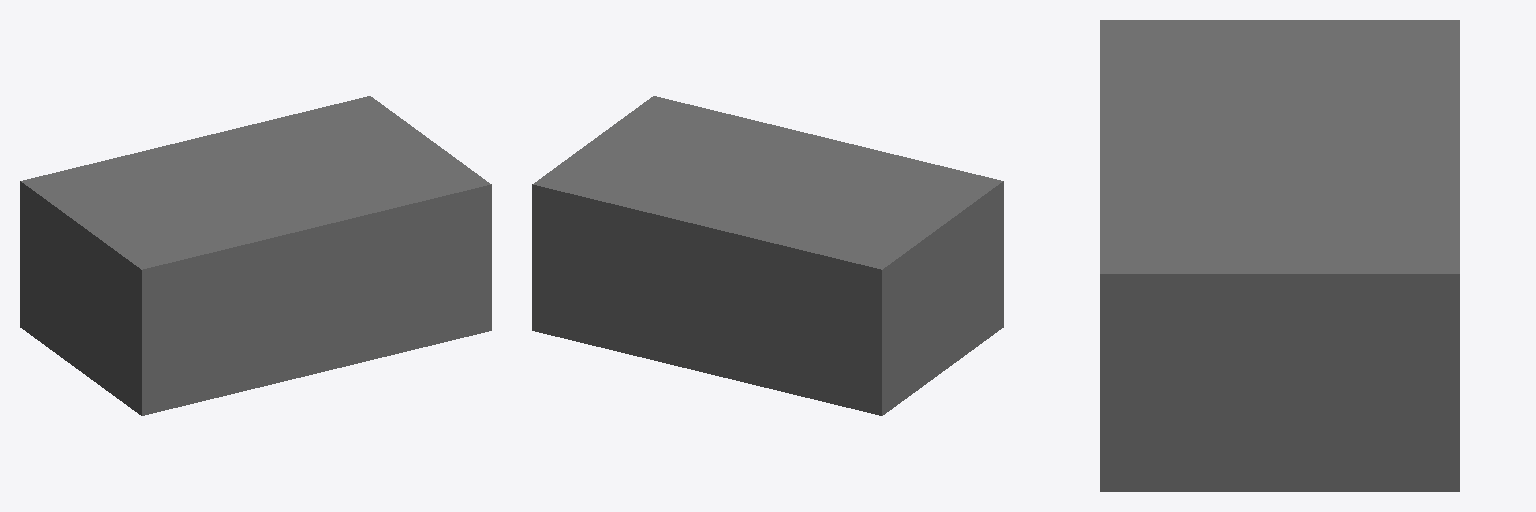
URDF robot description (testbot):
<?xml version="1.0"?>
<robot name="testbot">
  <material name="grey"><color rgba="0.5 0.5 0.5 1"/></material>

  <link name="base"/>

  <link name="trunk">
    <inertial>
      <origin xyz="0.1 0 0" rpy="0 0 1.5707963267948966"/>
      <mass value="10"/>
      <inertia ixx="1" ixy="0.5" ixz="0" iyy="2" iyz="0" izz="3"/>
    </inertial>
    <visual>
      <geometry><box size="1 0.6 0.4"/></geometry>
      <material name="grey"/>
    </visual>
    <collision>
      <geometry><box size="1 0.6 0.4"/></geometry>
    </collision>
  </link>

  <link name="hip">
    <inertial>
      <mass value="1"/>
      <inertia ixx="0.01" ixy="0" ixz="0" iyy="0.01" iyz="0" izz="0.01"/>
    </inertial>
    <collision>
      <geometry><sphere radius="0.1"/></geometry>
    </collision>
  </link>

  <link name="thigh">
    <inertial>
      <origin xyz="0 0 -0.2" rpy="0 0 0"/>
      <mass value="2"/>
      <inertia ixx="0.02" ixy="0" ixz="0" iyy="0.02" iyz="0" izz="0.01"/>
    </inertial>
    <collision>
      <origin xyz="0 0 -0.2" rpy="1.5707963267948966 0 0"/>
      <geometry><cylinder radius="0.05" length="0.4"/></geometry>
    </collision>
  </link>

  <link name="foot">
    <inertial>
      <mass value="1"/>
      <inertia ixx="0.001" ixy="0" ixz="0" iyy="0.001" iyz="0" izz="0.001"/>
    </inertial>
    <collision>
      <geometry><sphere radius="0.05"/></geometry>
    </collision>
  </link>

  <link name="slider">
    <inertial>
      <mass value="0.5"/>
      <inertia ixx="0.005" ixy="0" ixz="0" iyy="0.005" iyz="0" izz="0.005"/>
    </inertial>
    <collision>
      <origin xyz="0 0 0" rpy="0 0 1.5707963267948966"/>
      <geometry><box size="0.2 0.4 0.1"/></geometry>
    </collision>
  </link>

  <link name="wheel">
    <inertial>
      <mass value="0.5"/>
      <inertia ixx="0.005" ixy="0" ixz="0" iyy="0.005" iyz="0" izz="0.005"/>
    </inertial>
    <collision>
      <origin xyz="0 0 0" rpy="0 0 0.7853981633974483"/>
      <geometry><box size="0.2 0.2 0.2"/></geometry>
    </collision>
  </link>

  <link name="imu"/>

  <joint name="base_to_trunk" type="fixed">
    <parent link="base"/><child link="trunk"/>
    <origin xyz="0 0 0.5" rpy="0 0 0"/>
  </joint>

  <joint name="hip_joint" type="revolute">
    <parent link="trunk"/><child link="hip"/>
    <origin xyz="0.4 0.2 0" rpy="0 0 1.5707963267948966"/>
    <axis xyz="1 0 0"/>
    <limit lower="-1" upper="1" effort="20" velocity="10"/>
    <dynamics damping="0.1" friction="0"/>
  </joint>

  <joint name="thigh_joint" type="revolute">
    <parent link="hip"/><child link="thigh"/>
    <origin xyz="1 0 0" rpy="0 0 0"/>
    <axis xyz="0 1 0"/>
    <limit lower="-2" upper="2" effort="30" velocity="15"/>
  </joint>

  <joint name="foot_joint" type="fixed">
    <parent link="thigh"/><child link="foot"/>
    <origin xyz="0 0 -0.4" rpy="0 0 0"/>
  </joint>

  <joint name="slide_joint" type="prismatic">
    <parent link="trunk"/><child link="slider"/>
    <origin xyz="-0.4 0 0.3" rpy="0 0 0"/>
    <axis xyz="0 0 1"/>
    <limit lower="0" upper="0.5" effort="50" velocity="2"/>
  </joint>

  <joint name="spin_joint" type="continuous">
    <parent link="trunk"/><child link="wheel"/>
    <origin xyz="0 -0.4 0" rpy="0 0 0"/>
    <axis xyz="0 1 0"/>
    <limit effort="5" velocity="0"/>
  </joint>

  <joint name="imu_joint" type="fixed">
    <parent link="trunk"/><child link="imu"/>
    <origin xyz="0.1 0 0.1" rpy="0 0 0"/>
  </joint>

  <transmission name="hip_trans"><type>transmission_interface/SimpleTransmission</type></transmission>
  <gazebo reference="trunk"><selfCollide>false</selfCollide></gazebo>
</robot>

--- Render facts (derived) ---
Views: 3 orthographic renders of the robot side by side, from view 1: azimuth 30°, elevation 25°; view 2: azimuth 150°, elevation 25°; view 3: azimuth 270°, elevation 25°.
Robot: testbot — 8 links, 7 joints (2 revolute, 1 continuous, 1 prismatic, 3 fixed); root link base; default pose: every joint at zero.
Links seen in each view (by area): view 1: trunk; view 2: trunk; view 3: trunk.
Boxes of the visible links, <box> form: trunk: <box>20,96,491,415</box>; trunk: <box>532,96,1003,415</box>; trunk: <box>1100,20,1459,491</box>.
Size in the robot's own frame: 1 by 0.6 by 0.4 metres.
Geometry: primitives only (box / cylinder / sphere), no mesh files.
